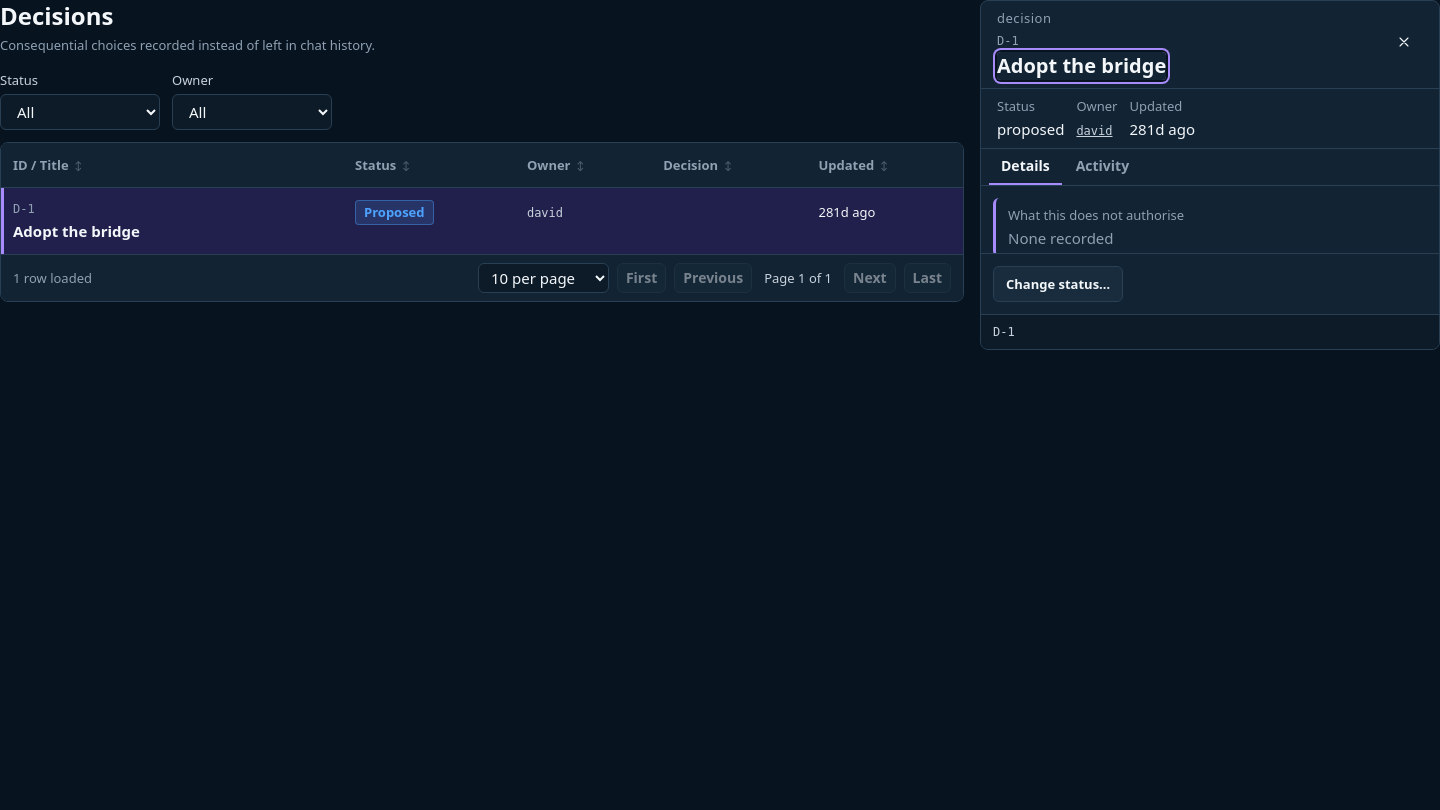
Test: the decision status dialog › returns focus to its opener after the close button
Click the button "Change status…": (1058, 284) [993,266,1123,302]
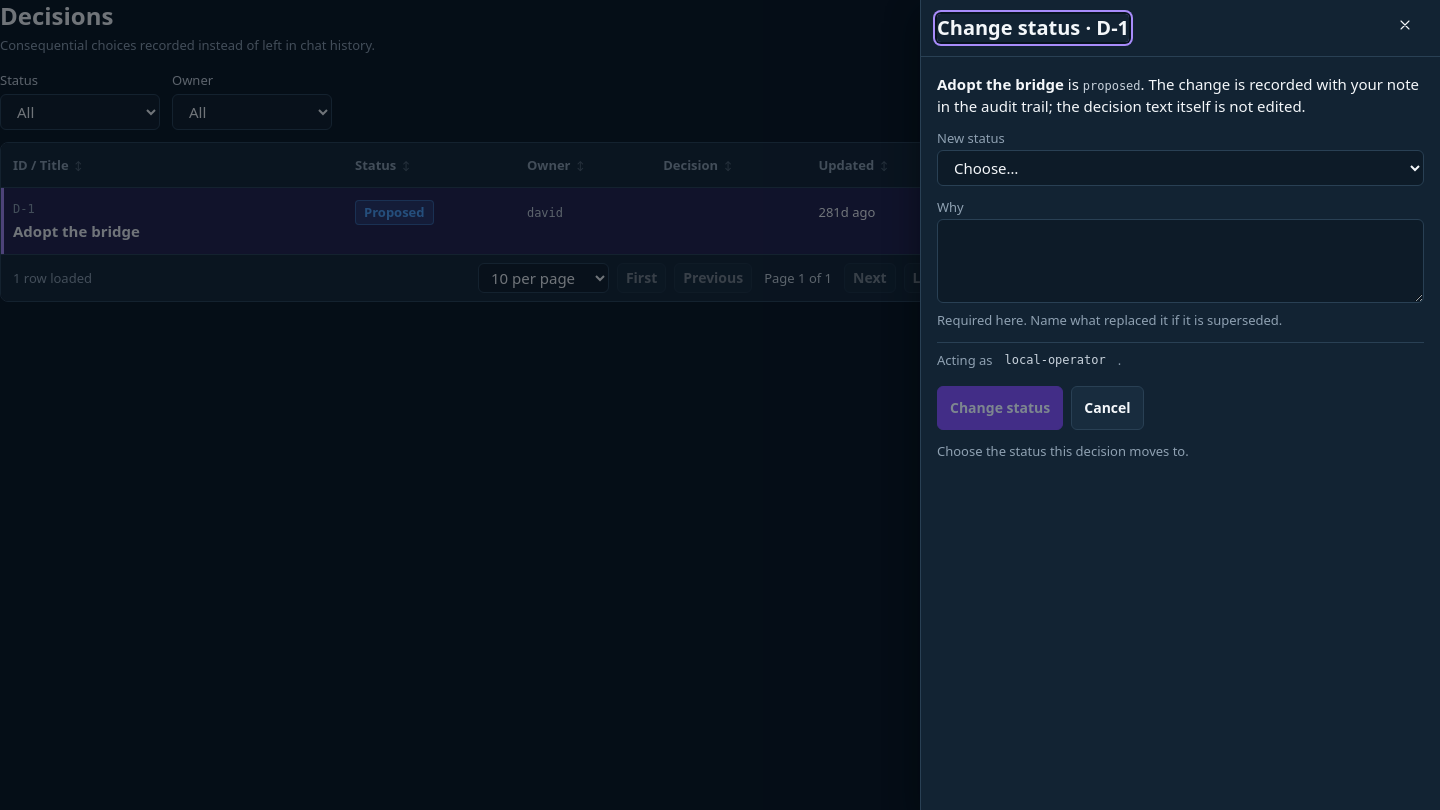
Click the button named "Close": (1405, 28) [1386,12,1424,44]
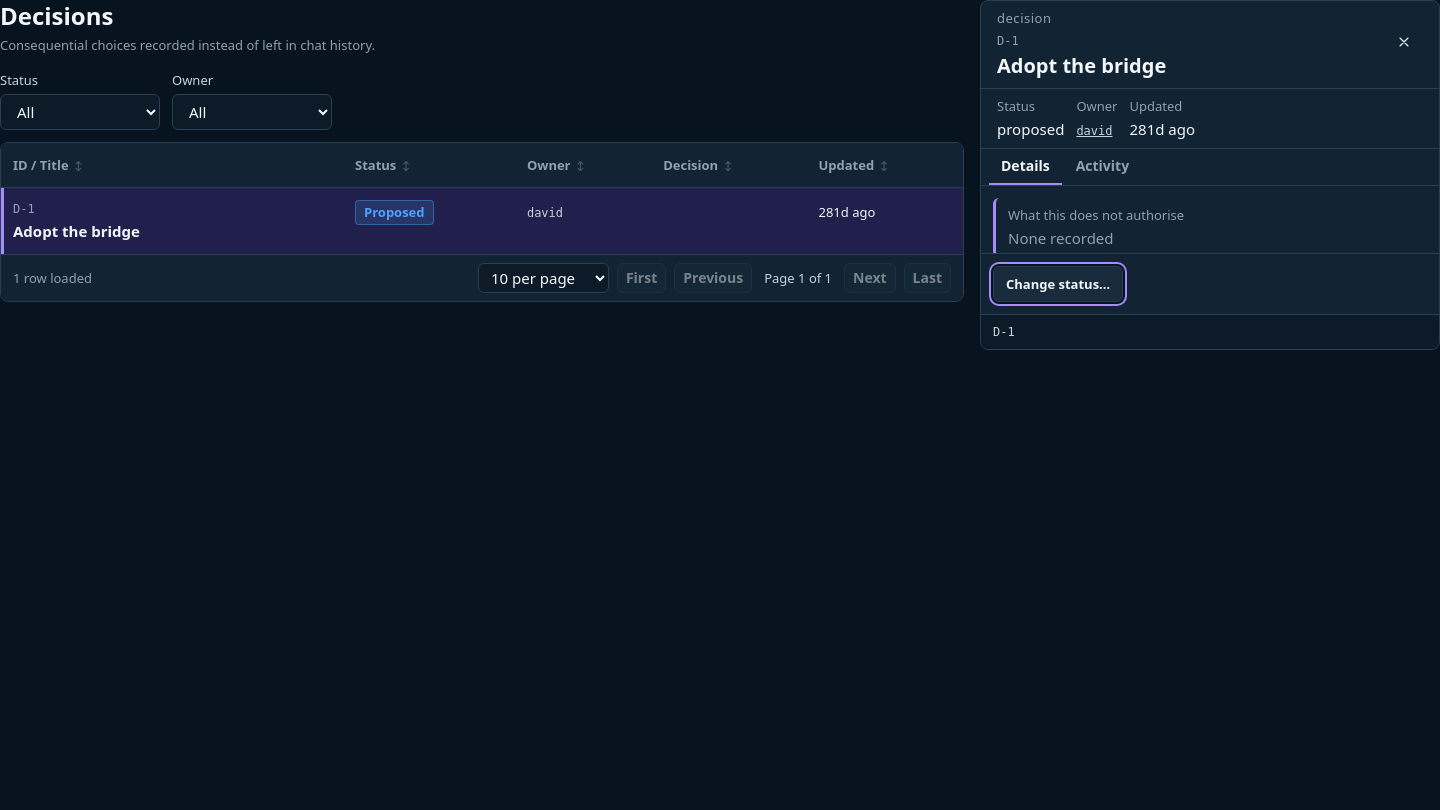
Result: the dialog is gone
